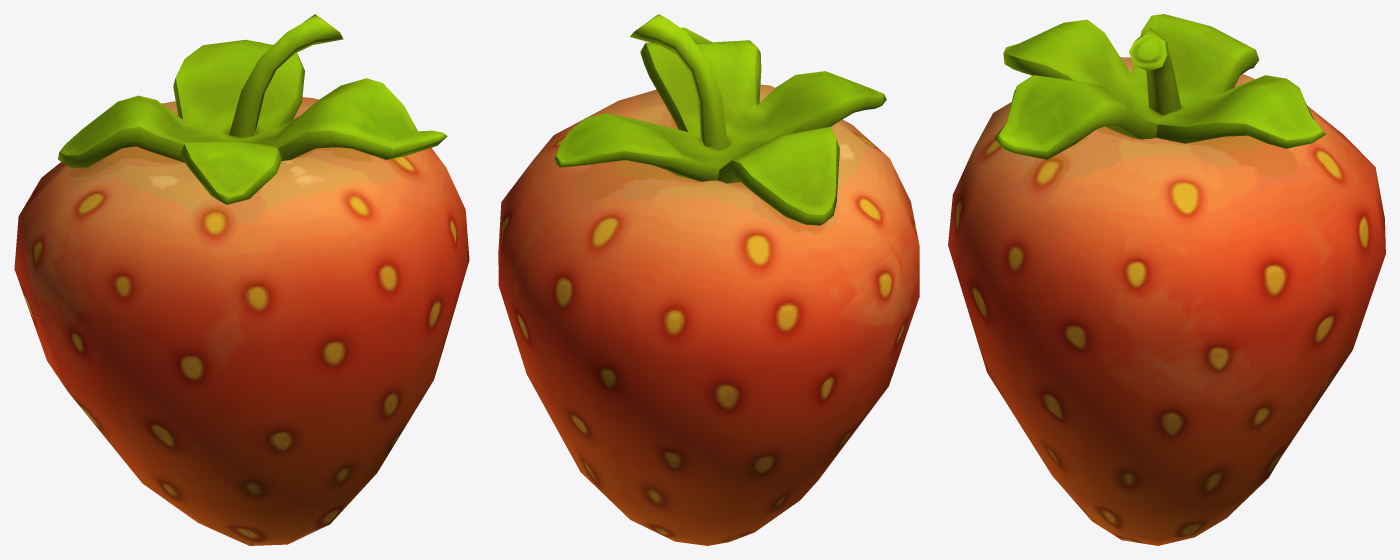
Rendered from SM_StrawberryB.fbx.
3 renders of one model, left to right at view 1: azimuth 30°, elevation 25°; view 2: azimuth 150°, elevation 25°; view 3: azimuth 270°, elevation 25°, orthographic. The views are drawn at different scales.
Visible parts, largest first — view 1: SM_StrawberryB; view 2: SM_StrawberryB; view 3: SM_StrawberryB.
Boxes of the visible parts, x1,y1,x2,y2 form: SM_StrawberryB: [14, 14, 469, 545]; SM_StrawberryB: [498, 14, 919, 545]; SM_StrawberryB: [948, 14, 1385, 545].
Size of the model in its own units: 7.06 by 8.84 by 6.7.
